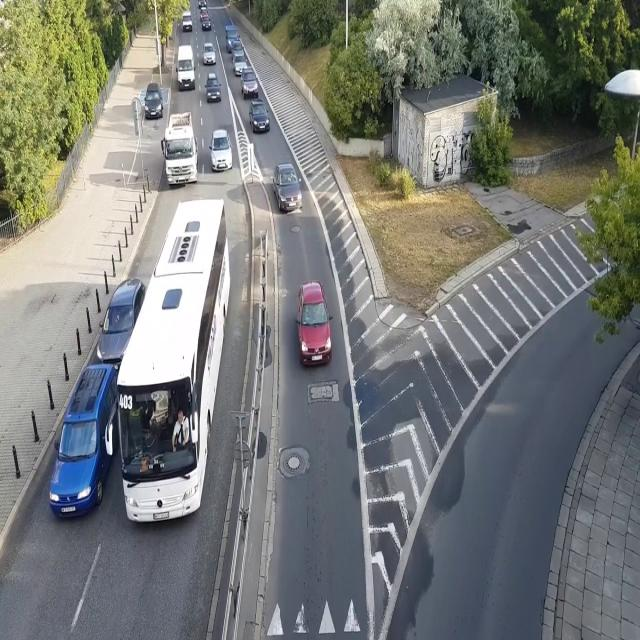bus: (116, 197, 232, 526)
car: (95, 277, 148, 362), (296, 279, 334, 366), (272, 161, 303, 215), (208, 125, 233, 174), (143, 82, 164, 120), (249, 100, 270, 134), (240, 65, 260, 98), (204, 70, 221, 103), (201, 43, 216, 66), (233, 54, 249, 75), (231, 40, 244, 59), (202, 17, 212, 32), (199, 7, 209, 21), (198, 0, 206, 7)
truck: (160, 111, 200, 186)
van: (50, 363, 121, 520), (175, 44, 196, 92), (224, 23, 240, 52), (181, 11, 193, 31)
